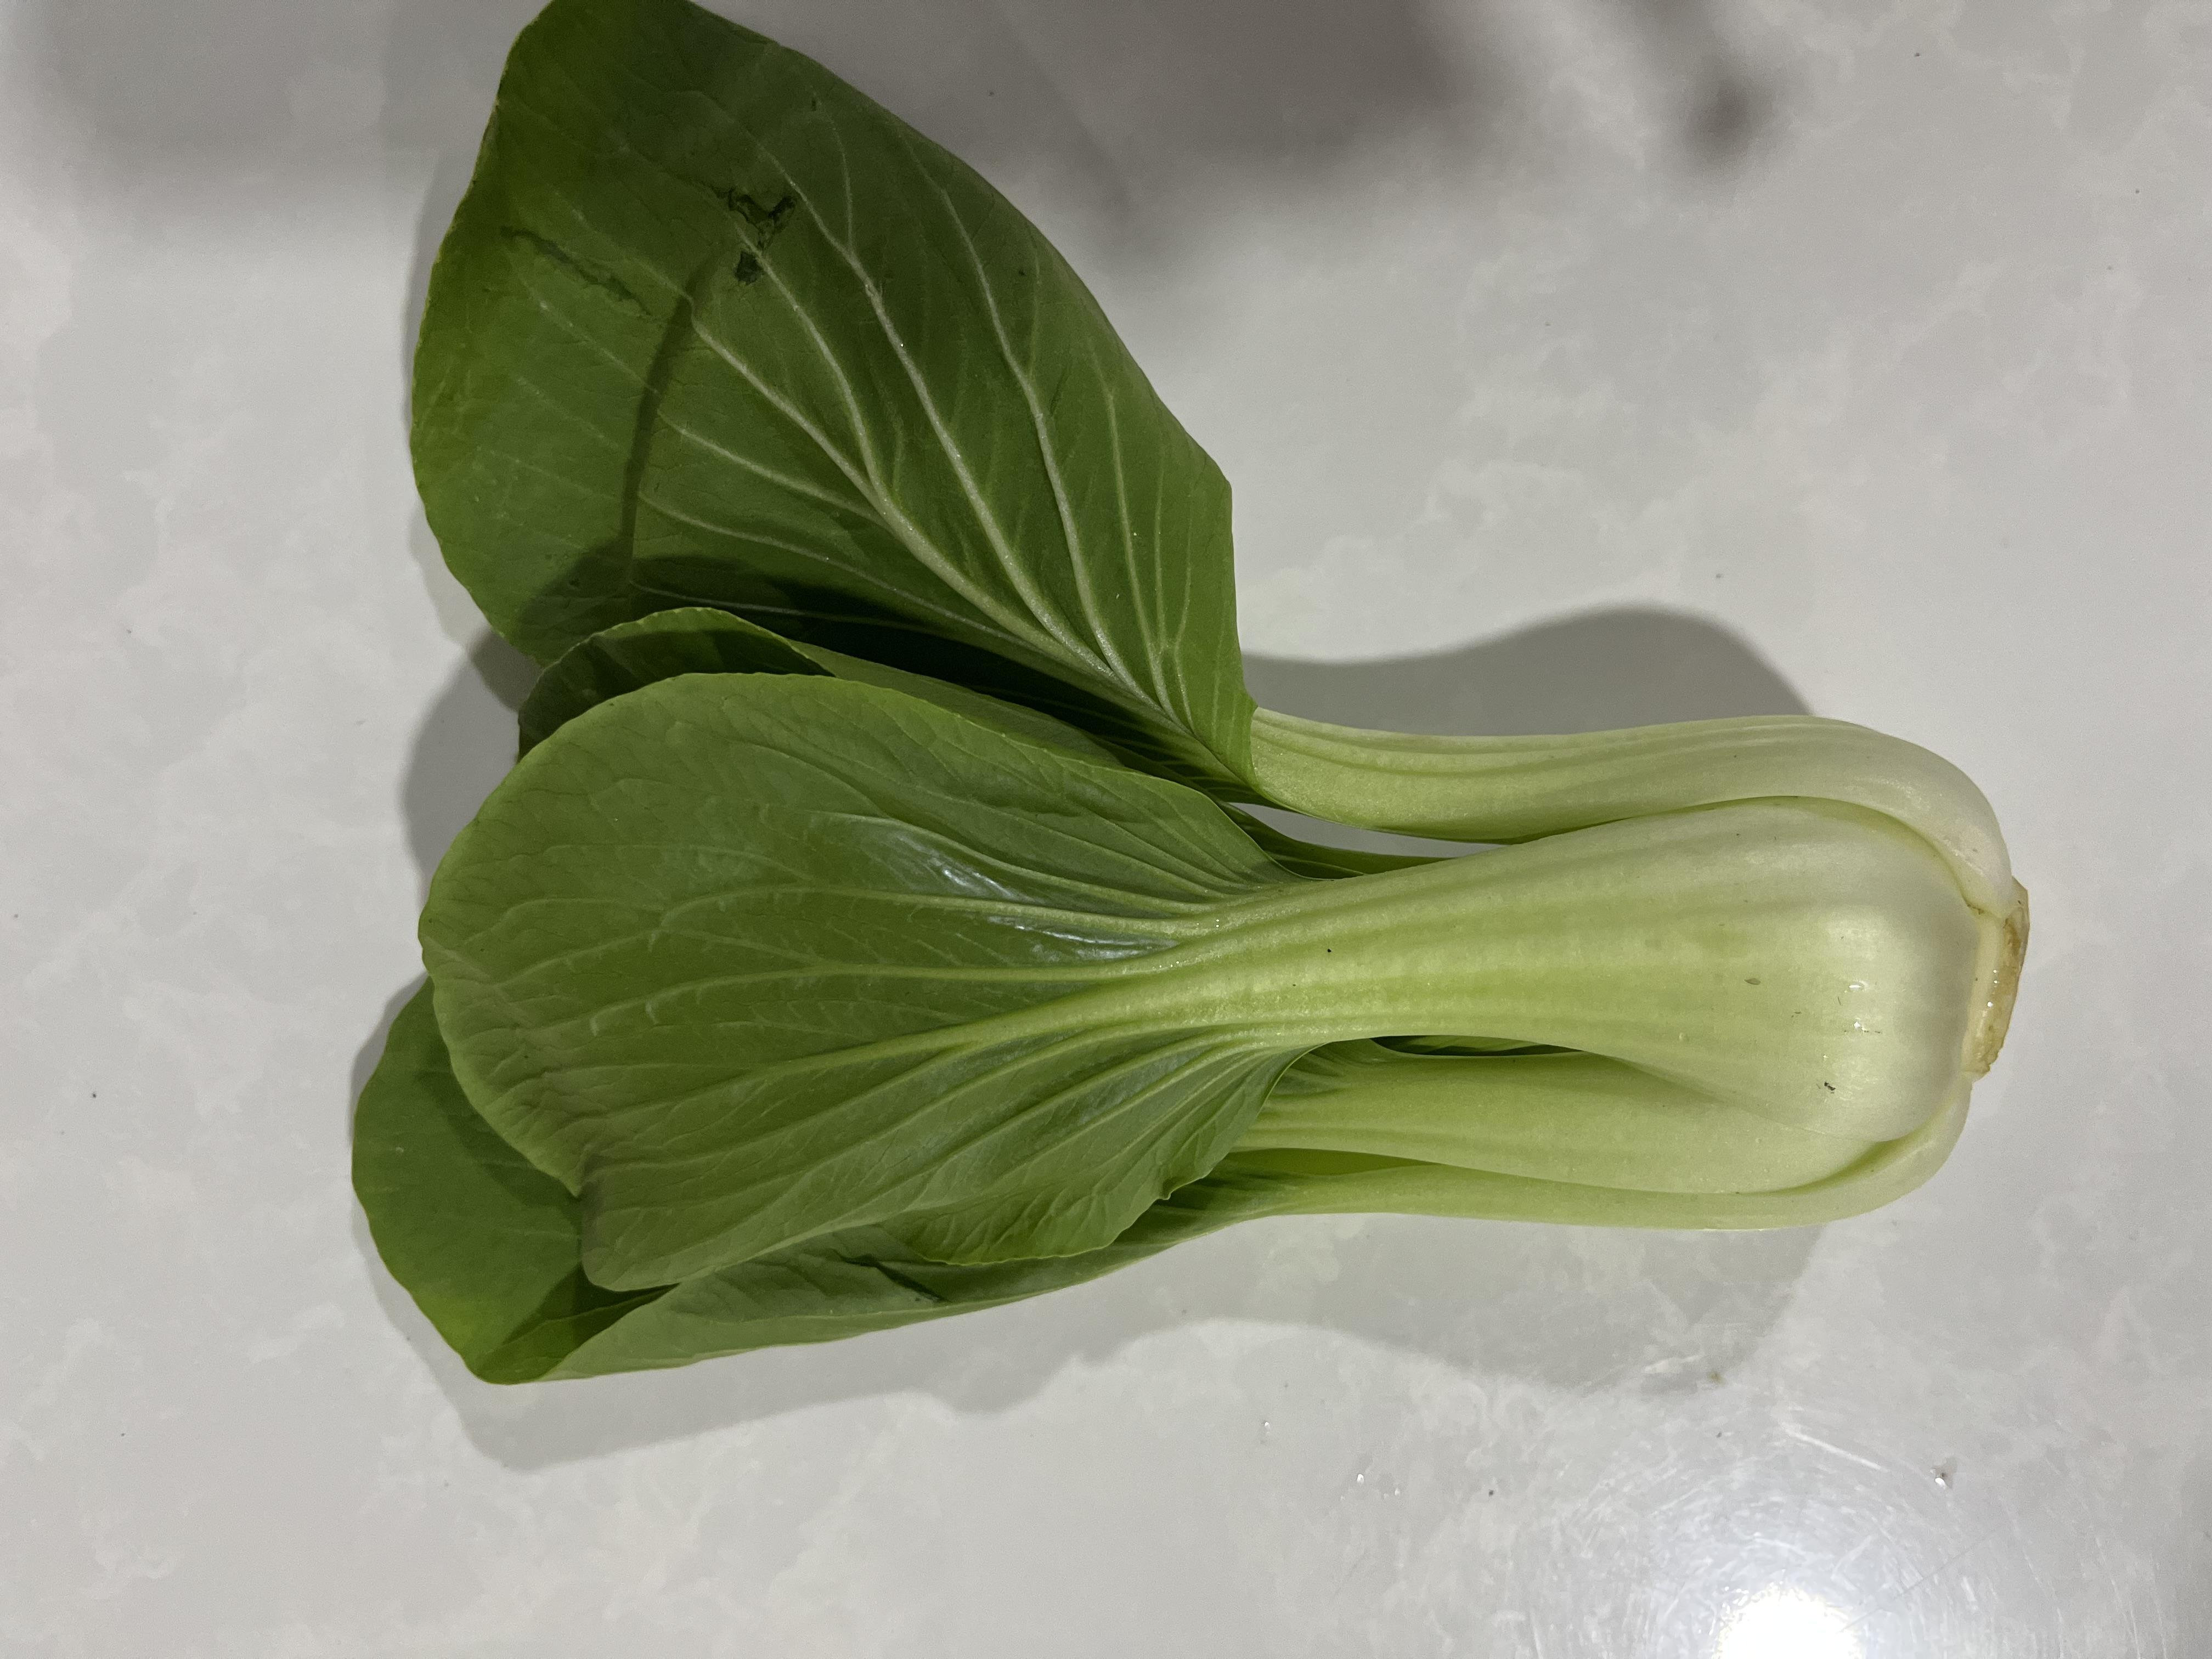Healthy-Pechay: (197, 10, 1937, 1317)
